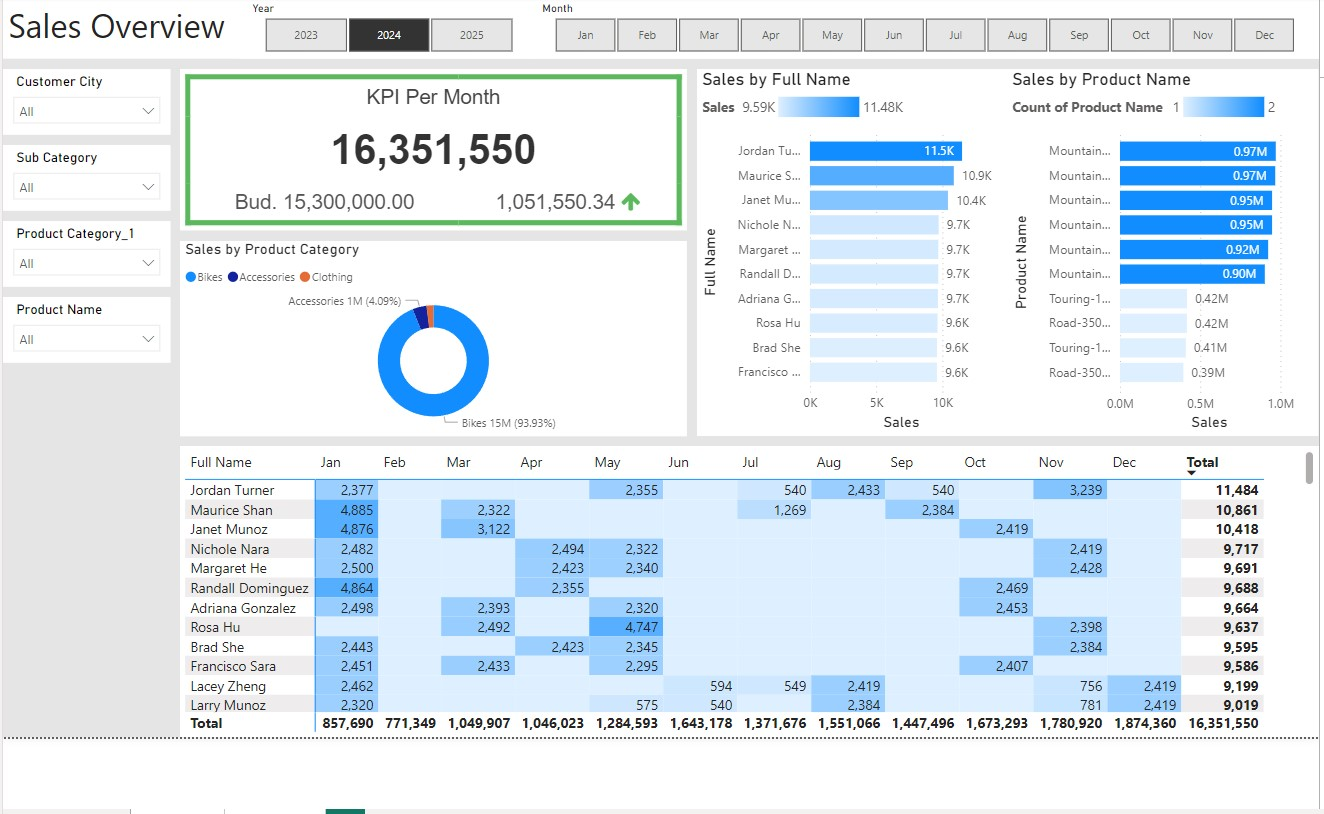

The page's visual inventory and layout, read from the dashboard file:
{"tool":"powerbi","page":{"name":"Pivot Table","canvas":[1280,720],"ordinal":1},"visuals":[{"type":"textbox","box":[0,0,1280,60.3],"z":0},{"type":"slicer","fields":{"Values":["DIM_Customers.Customer City"]},"box":[0,70,163.4,64.2],"z":1000},{"type":"slicer","fields":{"Values":["DIM_Product.Sub Category"]},"box":[0,144,163.4,64.2],"z":2000},{"type":"slicer","fields":{"Values":["DIM_Product.Product Category_1"]},"box":[0,217.9,163.4,64.2],"z":3000},{"type":"slicer","fields":{"Values":["DIM_Product.Product Name"]},"box":[0,291.8,163.4,64.2],"z":4000},{"type":"slicer","fields":{"Values":["DIM_Calendar.Year"]},"box":[229.5,0,289.8,60.3],"z":5000},{"type":"slicer","fields":{"Values":["DIM_Calendar.MonthShort"]},"box":[511.6,0,768.4,60.3],"z":6000},{"type":"BBED0A4D4D8D44CE93CF2DAFADEE466C","fields":{"actual":["FACT_InternetSales.Sales_2"],"target1":["FACT_Budget.Budget Amount"],"target2":["Key Measures.Sales - Budget"]},"box":[172.4,70,492.9,157.2],"z":7000},{"type":"donutChart","fields":{"Category":["DIM_Product.Product Category_1"],"Y":["Key Measures.Sales"]},"box":[172.4,237.3,492.9,189.7],"z":8000},{"type":"barChart","fields":{"Y":["Key Measures.Sales"],"Category":["DIM_Customers.Full Name"]},"box":[675,70,303.5,357],"z":10000},{"type":"barChart","fields":{"Category":["DIM_Product.Product Name"],"Y":["Key Measures.Sales"]},"box":[976.7,70,303.3,357],"z":11000},{"type":"pivotTable","fields":{"Rows":["DIM_Customers.Full Name"],"Columns":["DIM_Calendar.MonthShort"],"Values":["Key Measures.Sales"]},"box":[172.2,436.7,1107.8,283],"z":11001}]}

Visuals, with their boxes on the page's 1280x720 design canvas (x1, y1, x2, y2). These are canvas units, not pixel positions in the 1324x814 screenshot, which may show the page scaled, cropped or inside an application window:
textbox: BBox(0, 0, 1280, 60)
slicer - DIM_Customers.Customer City: BBox(0, 70, 163, 134)
slicer - DIM_Product.Sub Category: BBox(0, 144, 163, 208)
slicer - DIM_Product.Product Category_1: BBox(0, 218, 163, 282)
slicer - DIM_Product.Product Name: BBox(0, 292, 163, 356)
slicer - DIM_Calendar.Year: BBox(230, 0, 519, 60)
slicer - DIM_Calendar.MonthShort: BBox(512, 0, 1280, 60)
BBED0A4D4D8D44CE93CF2DAFADEE466C - FACT_InternetSales.Sales_2 x FACT_Budget.Budget Amount: BBox(172, 70, 665, 227)
donutChart - DIM_Product.Product Category_1 x Key Measures.Sales: BBox(172, 237, 665, 427)
barChart - Key Measures.Sales x DIM_Customers.Full Name: BBox(675, 70, 978, 427)
barChart - DIM_Product.Product Name x Key Measures.Sales: BBox(977, 70, 1280, 427)
pivotTable - DIM_Customers.Full Name x DIM_Calendar.MonthShort: BBox(172, 437, 1280, 720)
